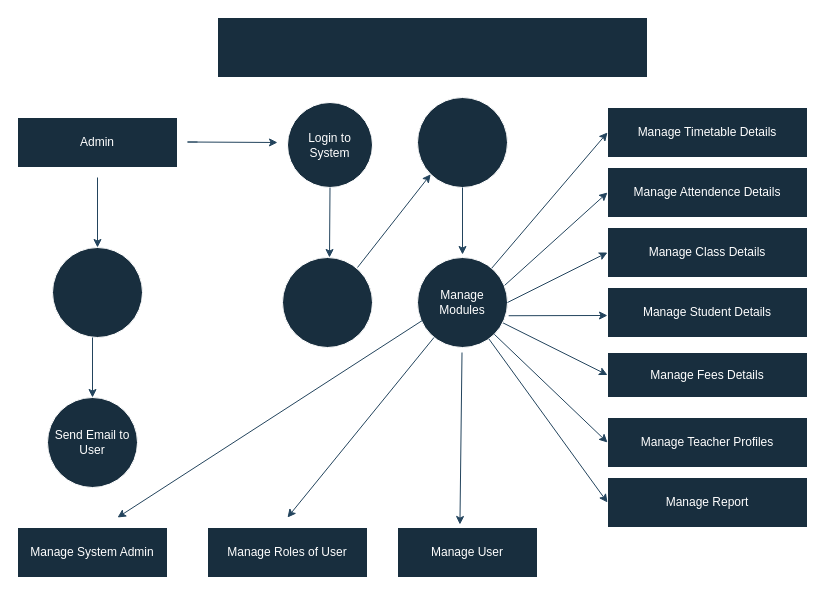
Image size: 825x595. Some labels were removed from this diagram. Here are the shapes that lost their labels. From the top down, the centre of each, then its label:
At (x=432, y=47): "Student Information System".
At (x=462, y=142): "Check rates of Access".
At (x=97, y=292): "Forgot Password".
At (x=327, y=302): "Check Credentials".
